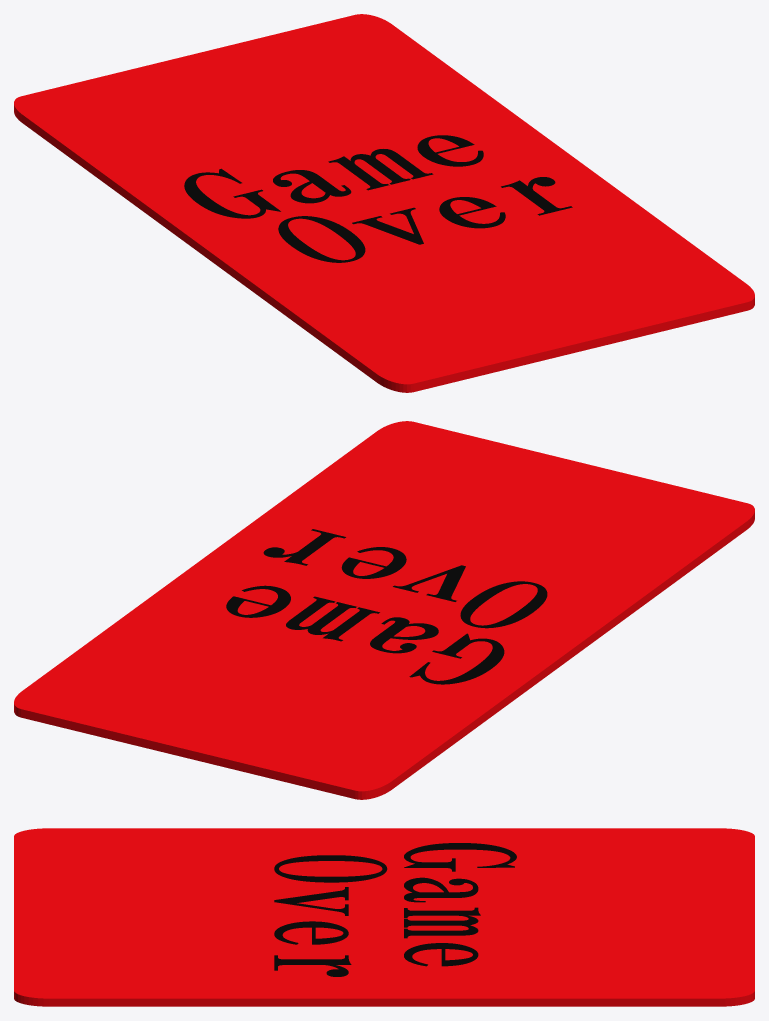
File: Card_GameOver.fbx
The picture shows the model from 3 angles, top to bottom: view 1: azimuth 30°, elevation 25°; view 2: azimuth 150°, elevation 25°; view 3: azimuth 270°, elevation 25°; orthographic projection. The views are drawn at different scales.
Visible parts, largest first — view 1: Cube, Text.001, Text.002; view 2: Cube, Text.001, Text.002; view 3: Cube, Text.001, Text.002.
Part boxes in pixels (x1,y1,x2,y2): Cube: (14, 14, 754, 392); Text.001: (184, 135, 483, 218); Text.002: (278, 177, 572, 262); Cube: (14, 421, 754, 799); Text.001: (226, 585, 504, 684); Text.002: (263, 529, 547, 628); Cube: (14, 828, 754, 1006); Text.001: (404, 843, 516, 966); Text.002: (274, 855, 387, 976).
Bounding box in the file's own units: 109 × 3.99 × 200.
